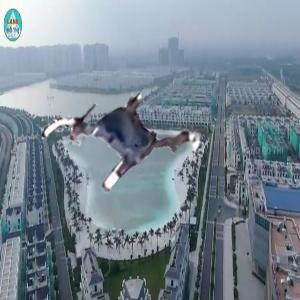drone: (47, 62, 201, 216)
